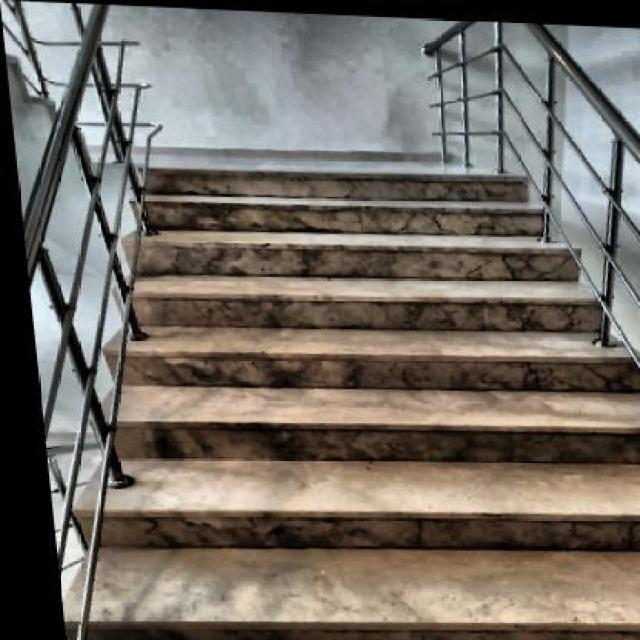stair: (12, 152, 638, 638)
